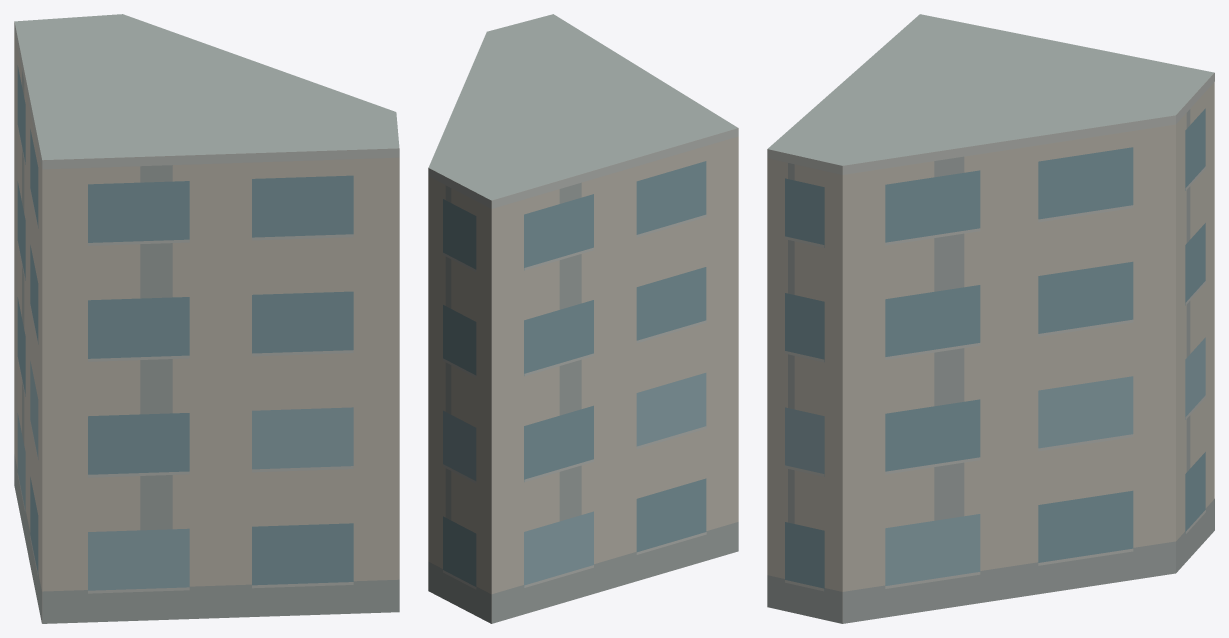
The model's file is residential-0ed162db-80b1-431c-9064-7a82188b9474.glb.
3 views of the same model, side by side, from view 1: azimuth 30°, elevation 25°; view 2: azimuth 150°, elevation 25°; view 3: azimuth 270°, elevation 25° (orthographic). The views are drawn at different scales.
Parts seen in each view (by area): view 1: residential-0ed162db-80b1-431c-9064-7a82188b9474.tmp; view 2: residential-0ed162db-80b1-431c-9064-7a82188b9474.tmp; view 3: residential-0ed162db-80b1-431c-9064-7a82188b9474.tmp.
Boxes of the visible parts, <box> form: residential-0ed162db-80b1-431c-9064-7a82188b9474.tmp: <box>14,14,399,623</box>; residential-0ed162db-80b1-431c-9064-7a82188b9474.tmp: <box>428,14,738,623</box>; residential-0ed162db-80b1-431c-9064-7a82188b9474.tmp: <box>767,14,1214,623</box>.
Size of the model in its own units: 8.68 by 12.2 by 10.81.
